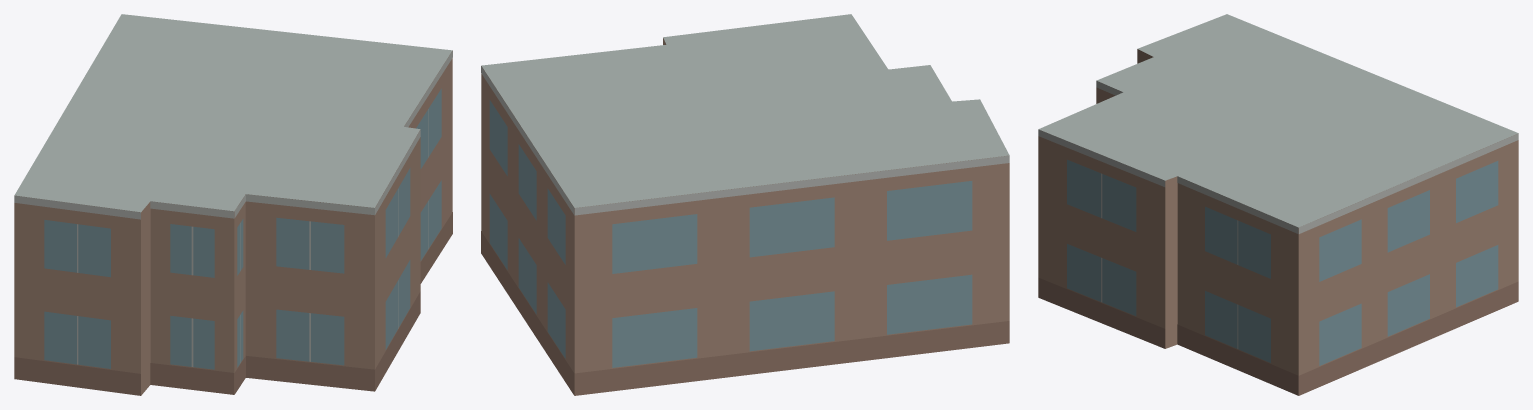
Rendered from survey-upis-32604578.glb.
The picture shows the model from 3 angles, left to right: view 1: azimuth 30°, elevation 25°; view 2: azimuth 150°, elevation 25°; view 3: azimuth 270°, elevation 25°; orthographic projection. The views are drawn at different scales.
Parts seen in each view (by area): view 1: survey-upis-32604578.tmp; view 2: survey-upis-32604578.tmp; view 3: survey-upis-32604578.tmp.
Boxes of the visible parts, left/top/right/bottom form: survey-upis-32604578.tmp: left=14, top=14, right=452, bottom=395; survey-upis-32604578.tmp: left=481, top=14, right=1009, bottom=395; survey-upis-32604578.tmp: left=1038, top=14, right=1518, bottom=395.
Bounding box in the file's own units: 16.61 × 6.1 × 15.79.
